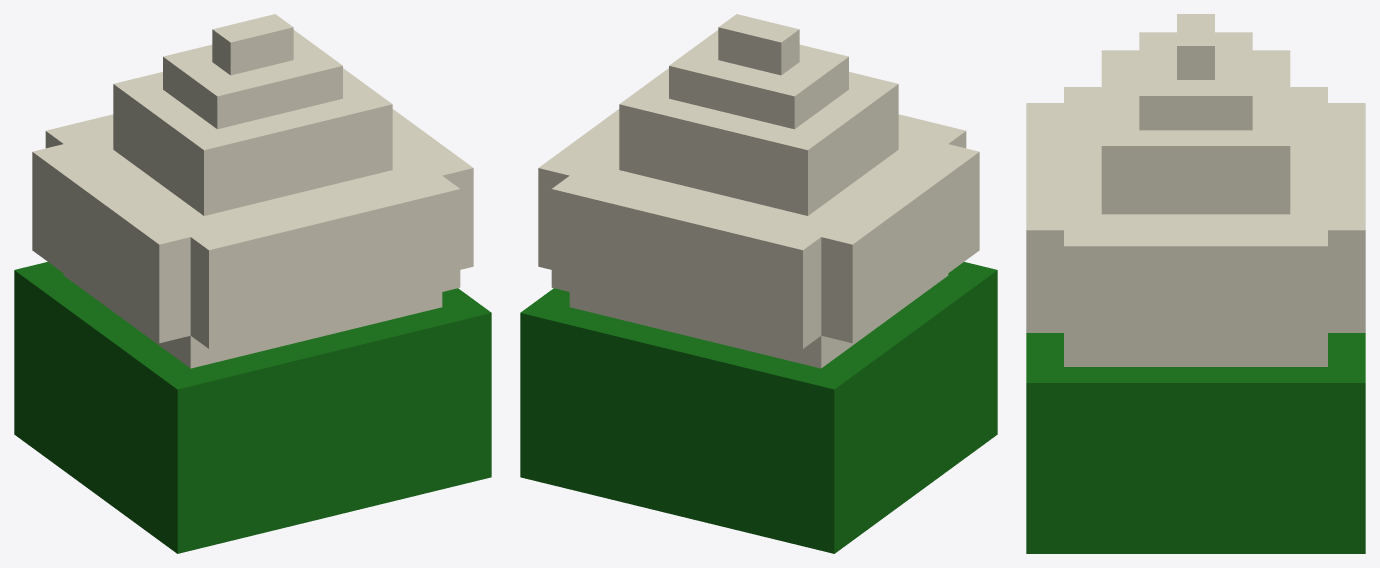
File: character.vox-0-player-2-head.obj
3 views of the same model, side by side, from view 1: azimuth 30°, elevation 25°; view 2: azimuth 150°, elevation 25°; view 3: azimuth 270°, elevation 25° (orthographic). The views are drawn at different scales.
Visible parts, largest first — view 1: player-2-head; view 2: player-2-head; view 3: player-2-head.
Boxes of the visible parts, x1,y1,x2,y2 form: player-2-head: (14,14,491,553); player-2-head: (520,14,997,553); player-2-head: (1026,14,1365,553).
Size of the model in its own units: 1 by 1.3 by 0.9.
Materials: 1 (1 with a texture image).
